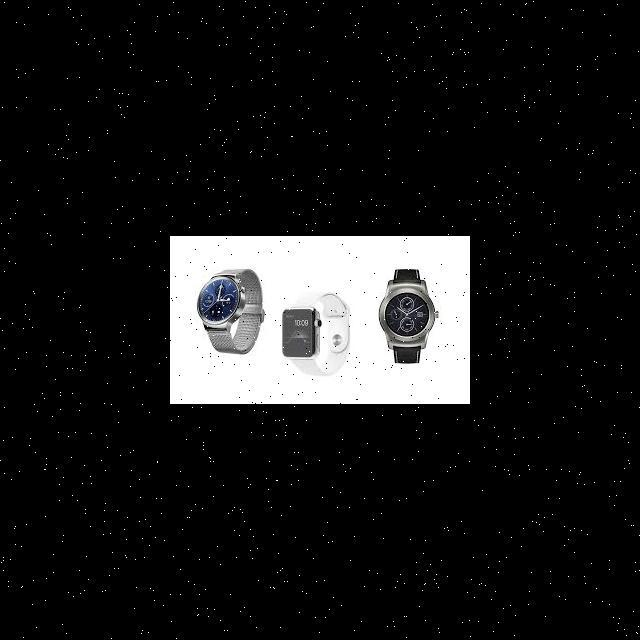watch: (197, 248, 268, 384), (282, 275, 352, 392), (378, 272, 435, 375)
